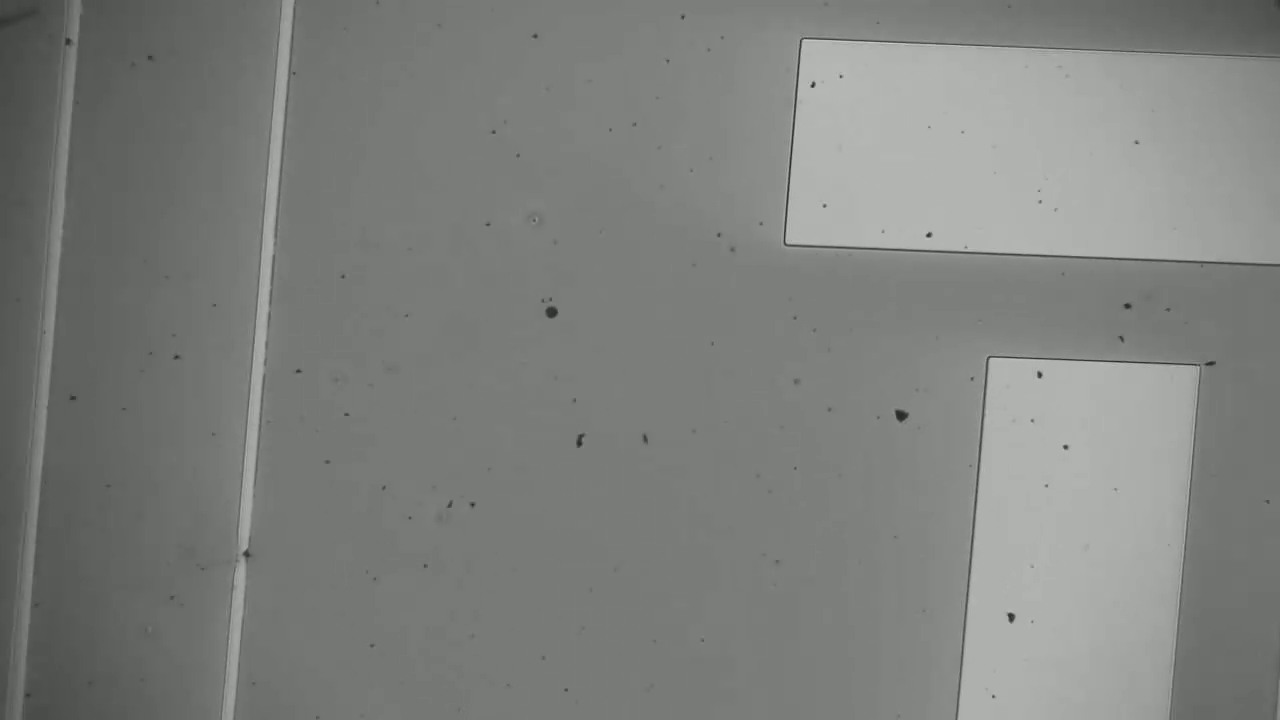stains_enbedded: (231, 540, 263, 564)
